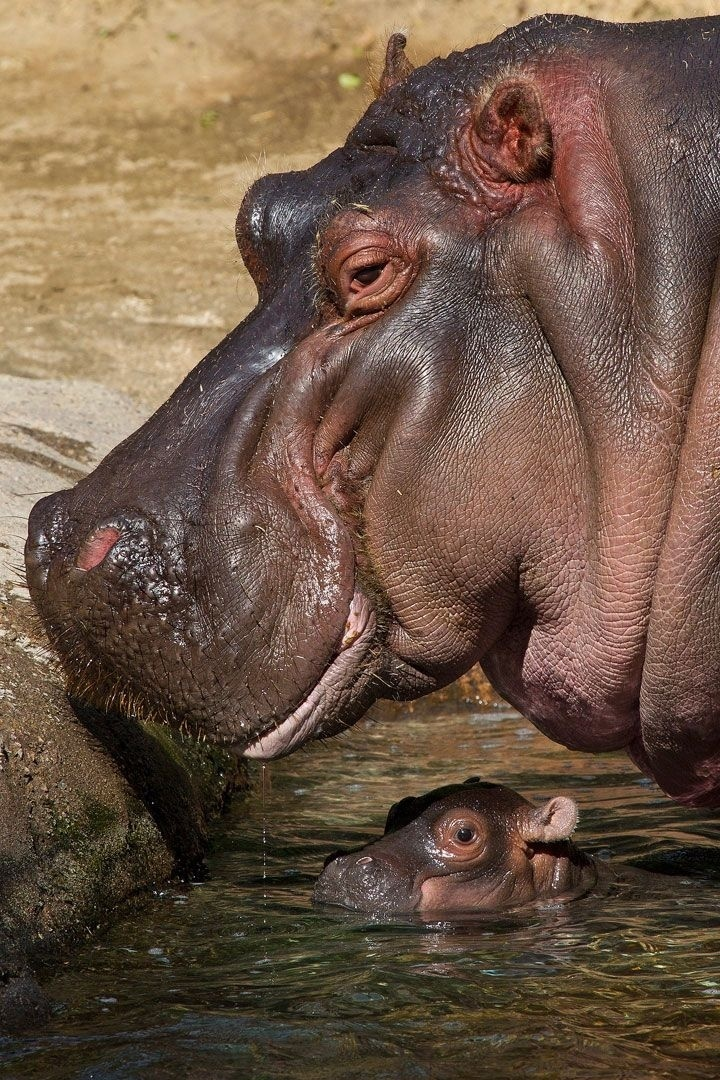hipopotamo: (22, 1, 720, 835), (285, 736, 617, 955)
